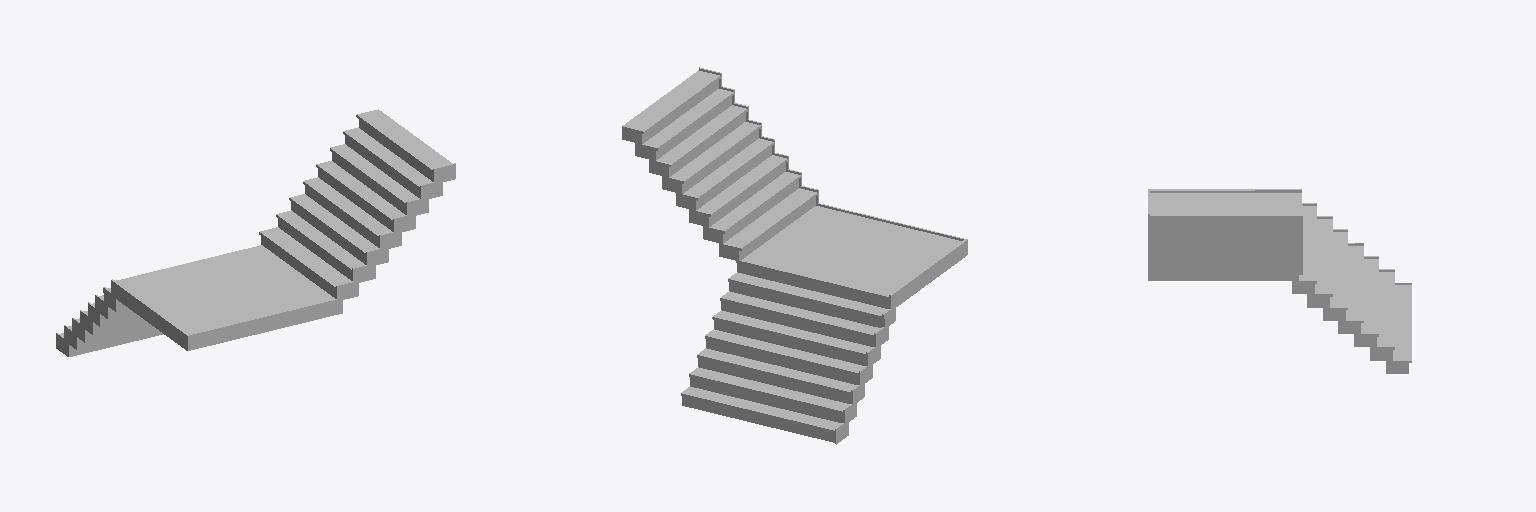
Rendered from menu_schody.obj.
3 renders of one model, left to right at view 1: azimuth 30°, elevation 25°; view 2: azimuth 150°, elevation 25°; view 3: azimuth 270°, elevation 25°, orthographic.
Size of the model in its own units: 8.01 by 6.13 by 6.8.